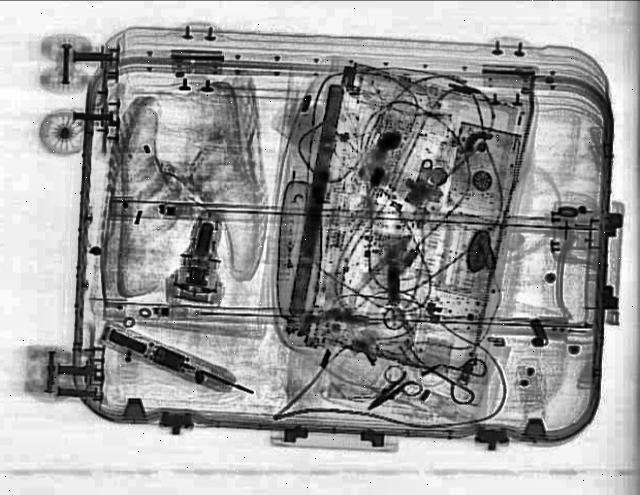Scissors: (352, 360, 432, 418)
